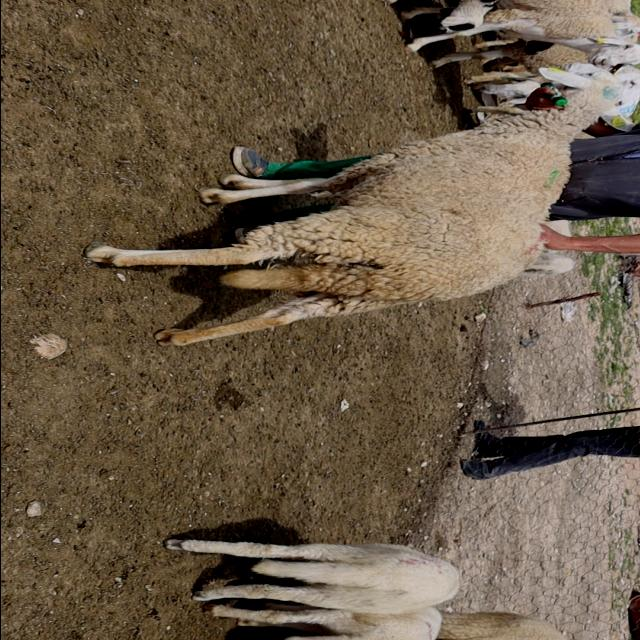Score_2: (84, 65, 620, 346)
